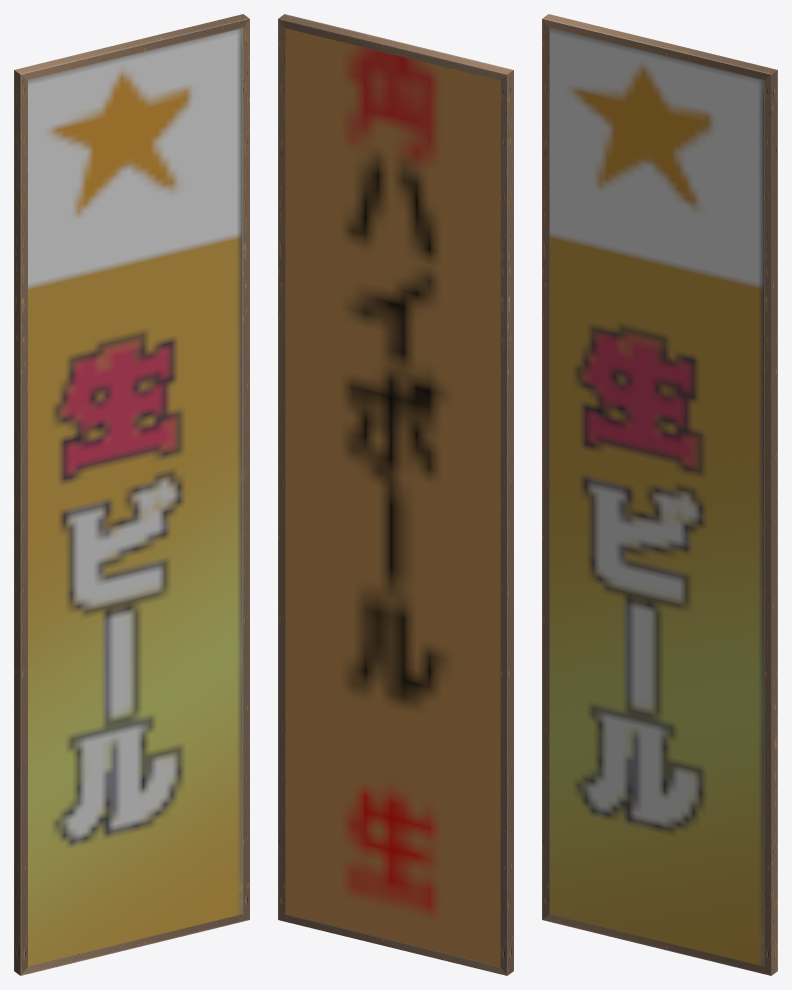
File: shopboard04a.fbx
3 views of the same model, side by side, from view 1: azimuth 30°, elevation 25°; view 2: azimuth 150°, elevation 25°; view 3: azimuth 330°, elevation 25° (orthographic).
Visible parts, largest first — view 1: shopboard04a; view 2: shopboard04a; view 3: shopboard04a.
Boxes of the visible parts, <box> form: shopboard04a: <box>14,14,249,975</box>; shopboard04a: <box>278,14,513,975</box>; shopboard04a: <box>542,14,777,975</box>.
Size of the model in its own units: 50.63 by 190 by 2.51.
